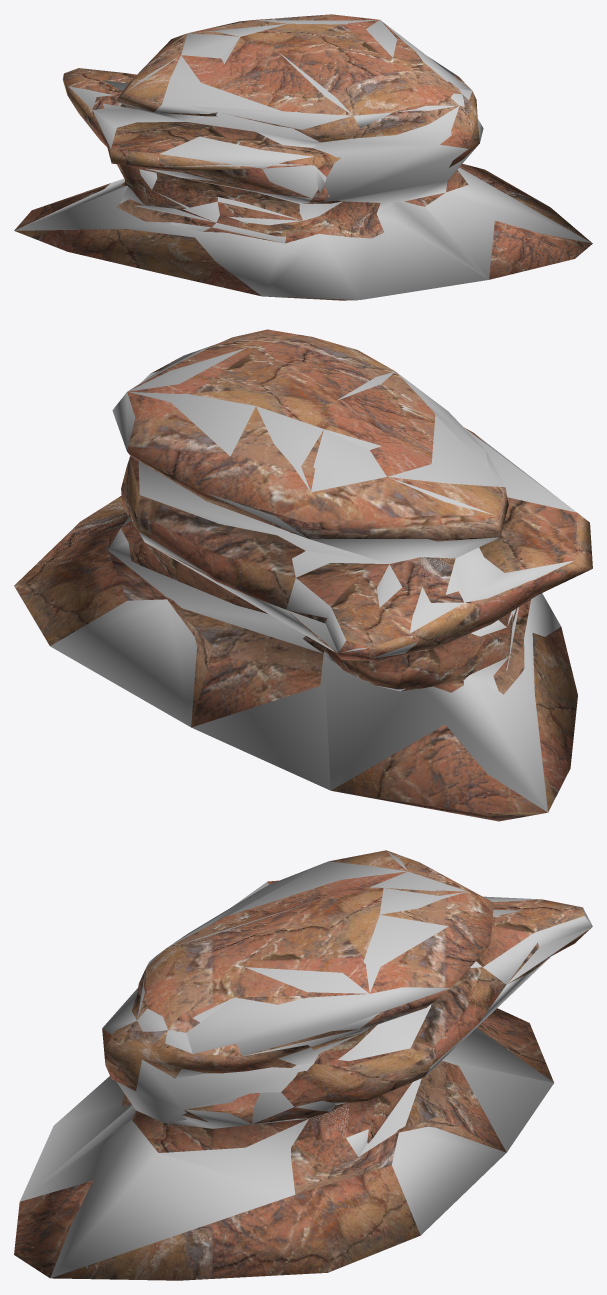
Rendered from africaRock_06.dae.
3 views of the same model, one above another, from view 1: azimuth 30°, elevation 25°; view 2: azimuth 150°, elevation 25°; view 3: azimuth 270°, elevation 25° (orthographic). The views are drawn at different scales.
Parts seen in each view (by area): view 1: africaRockSix300, africaRockSix100, africaRockSix200; view 2: africaRockSix300, africaRockSix100, africaRockSix200; view 3: africaRockSix300, africaRockSix100, africaRockSix200.
Part boxes in pixels (box(x1,y1,x2,y2)): africaRockSix300: box(14, 14, 592, 300); africaRockSix100: box(15, 21, 592, 299); africaRockSix200: box(68, 19, 488, 279); africaRockSix300: box(14, 329, 592, 821); africaRockSix100: box(108, 347, 560, 812); africaRockSix200: box(50, 343, 576, 790); africaRockSix300: box(14, 850, 591, 1280); africaRockSix100: box(20, 871, 592, 1278); africaRockSix200: box(21, 851, 592, 1235).
Size of what is drawn, in the model's own units: 22.9 by 19.93 by 9.98.
